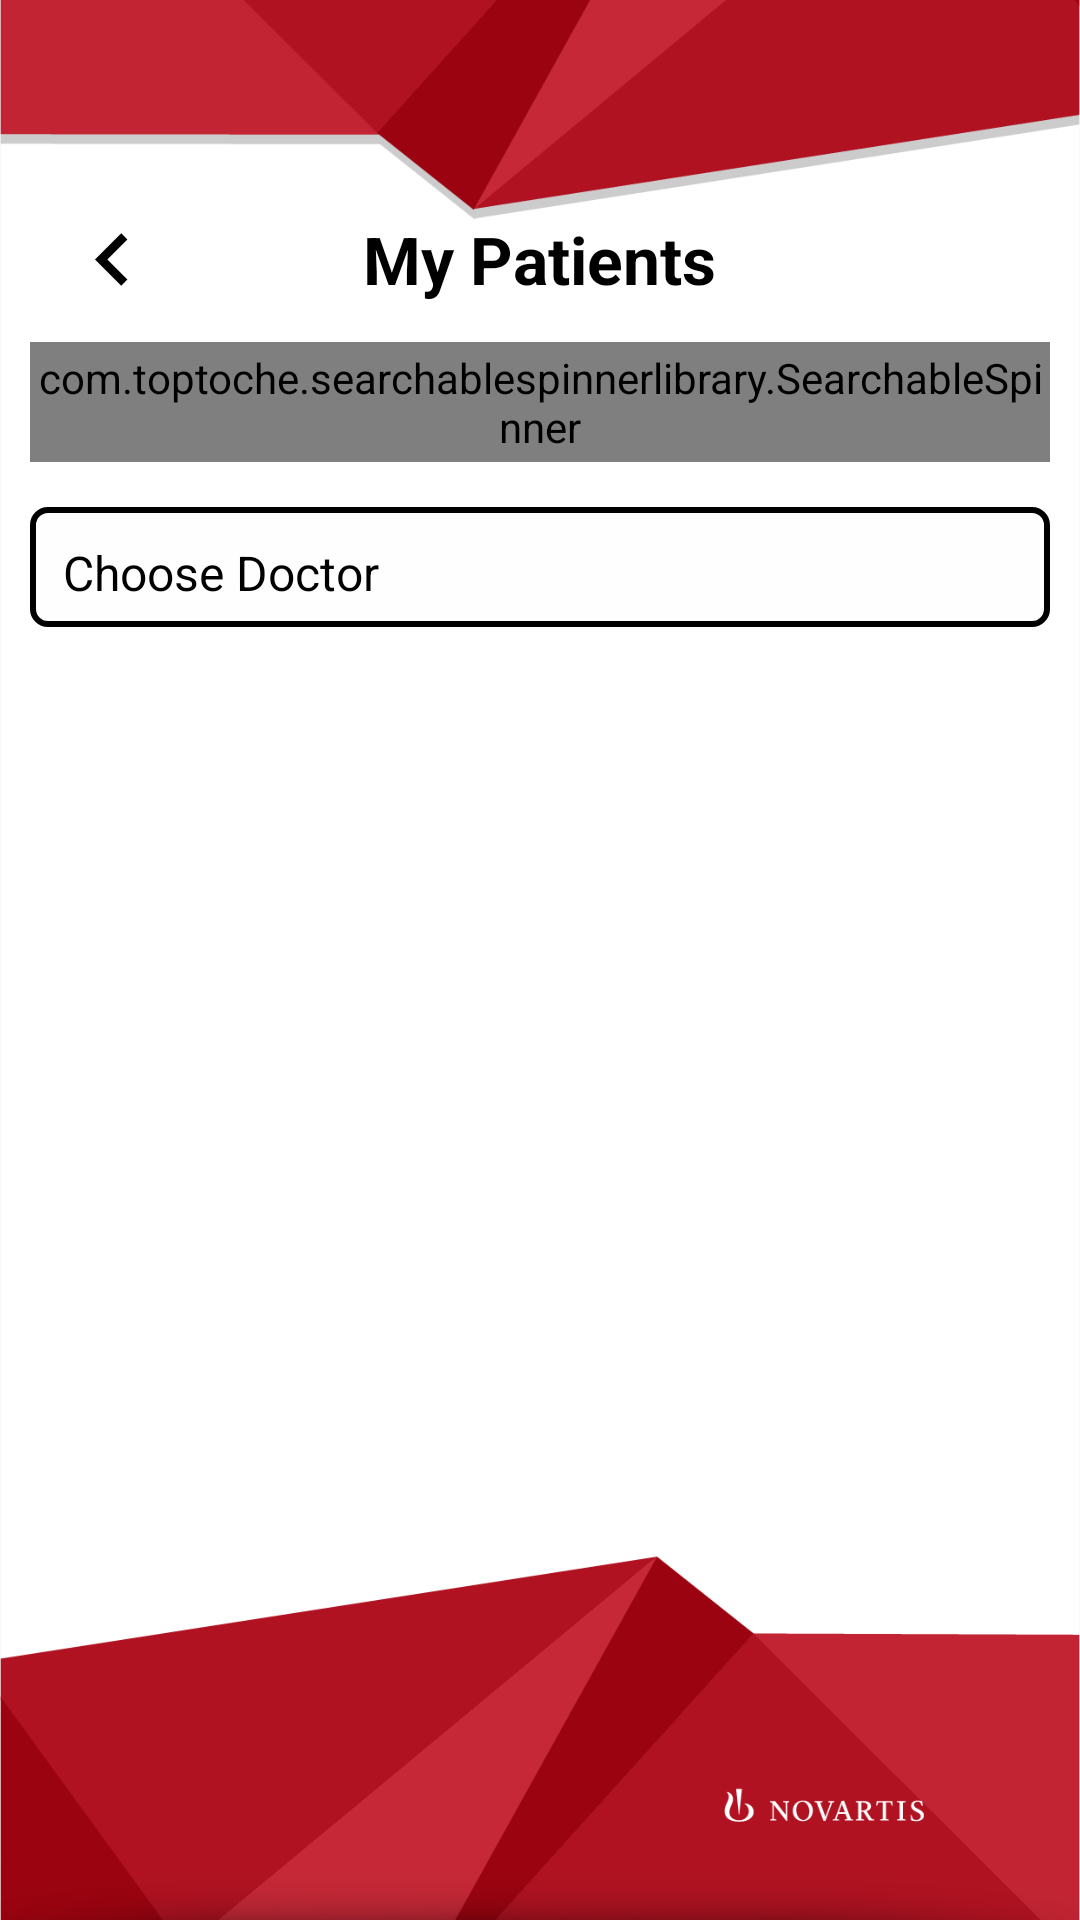

Icons on this 1080px x 1920px Android screen, each with its box as (x1=x1, y1=y1, x2=x2, y2=y2):
back: (x1=95, y1=233, x2=128, y2=286)
